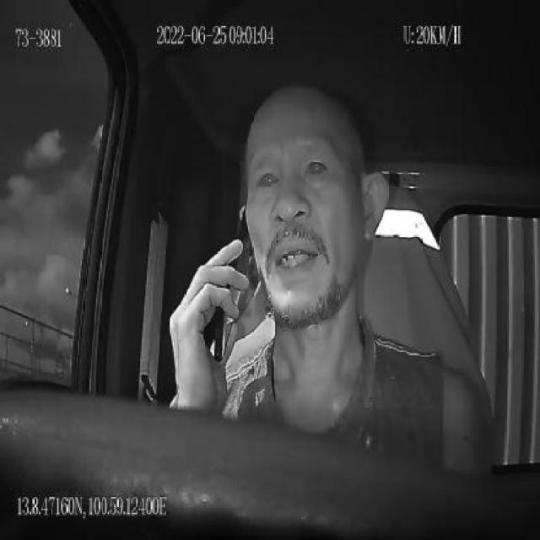phone: (214, 204, 252, 363)
